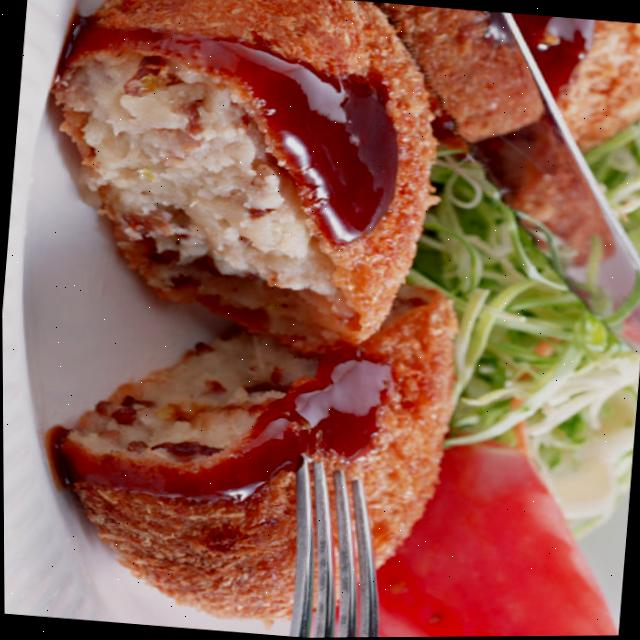炸货点心: (3, 0, 503, 640)
